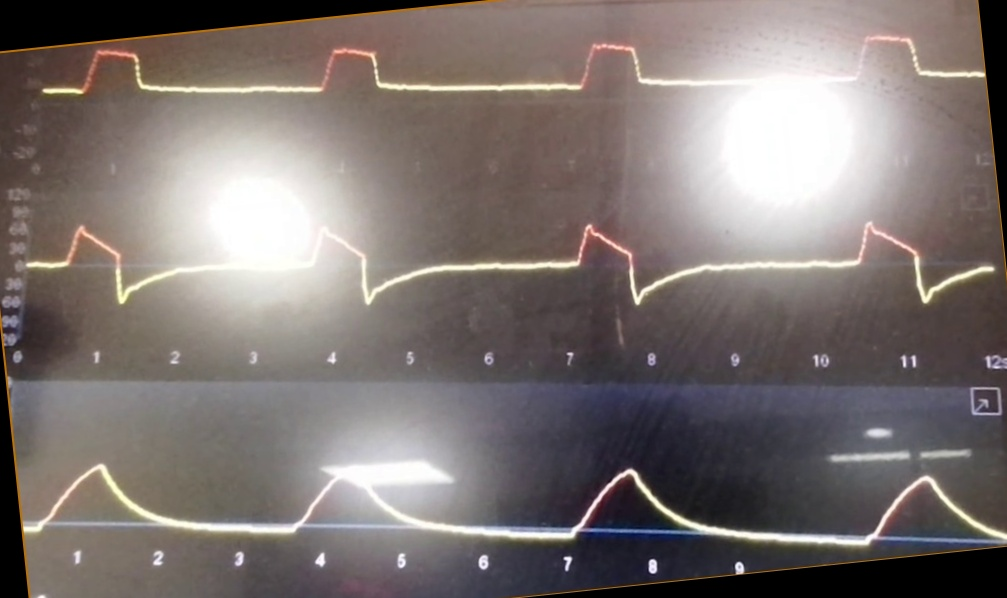Normal Flow: (28, 188, 993, 337)
Normal Volume: (28, 439, 1007, 555)
